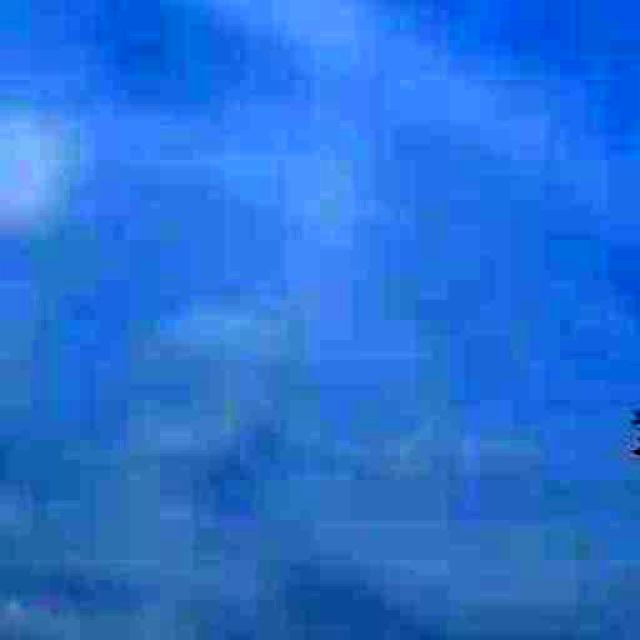drone: (609, 389, 640, 475)
